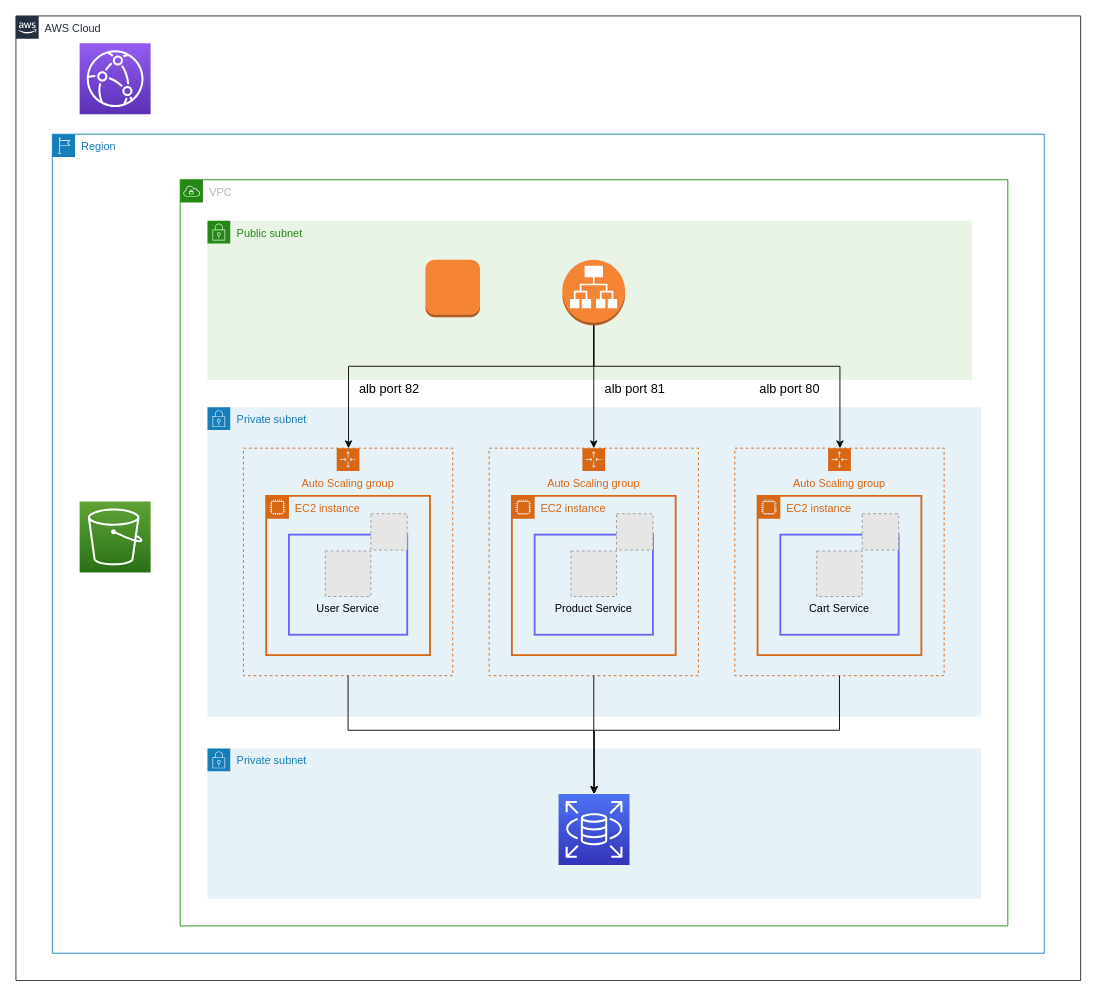
Some shapes in this 1097 by 996 pixel diagram are drawn without their labels. Grey dashed boxes stand in for pictures. Here are the shapes that lost their labels. From the top down, the centre of each, then its label:
At point (452, 288): "BastionHost".
At point (593, 292): "ALB".
